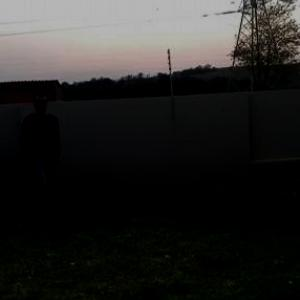follow: (23, 96, 72, 208)
